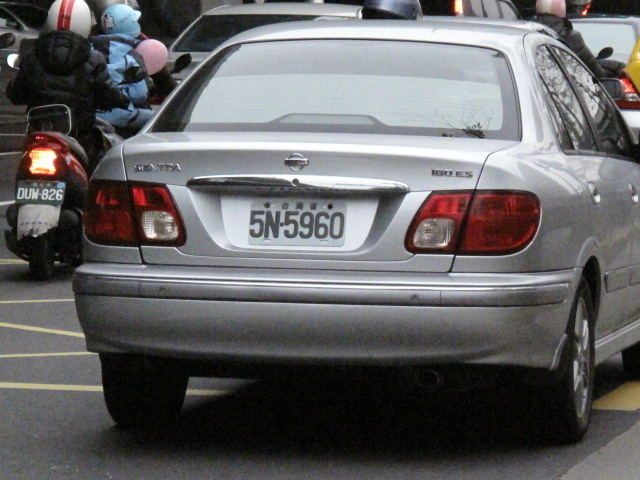plate: (247, 195, 350, 247), (14, 175, 67, 208)
